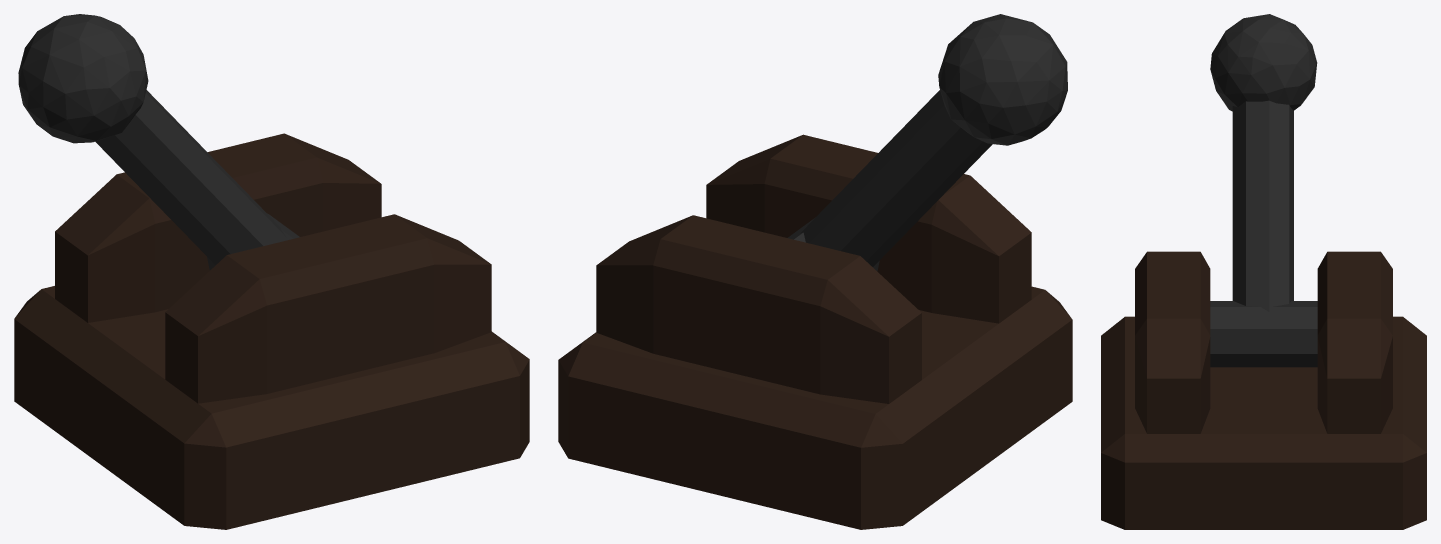
The model's file is railSwitch.fbx.
The picture shows the model from 3 angles, left to right: view 1: azimuth 30°, elevation 25°; view 2: azimuth 150°, elevation 25°; view 3: azimuth 270°, elevation 25°; orthographic projection. The views are drawn at different scales.
Visible parts, largest first — view 1: RailSwitch; view 2: RailSwitch; view 3: RailSwitch.
Boxes of the visible parts, left/top/right/bottom form: RailSwitch: left=14, top=14, right=529, bottom=529; RailSwitch: left=558, top=14, right=1072, bottom=529; RailSwitch: left=1101, top=14, right=1426, bottom=529.
Size of the model in its own units: 31.33 by 32.08 by 25.88.
